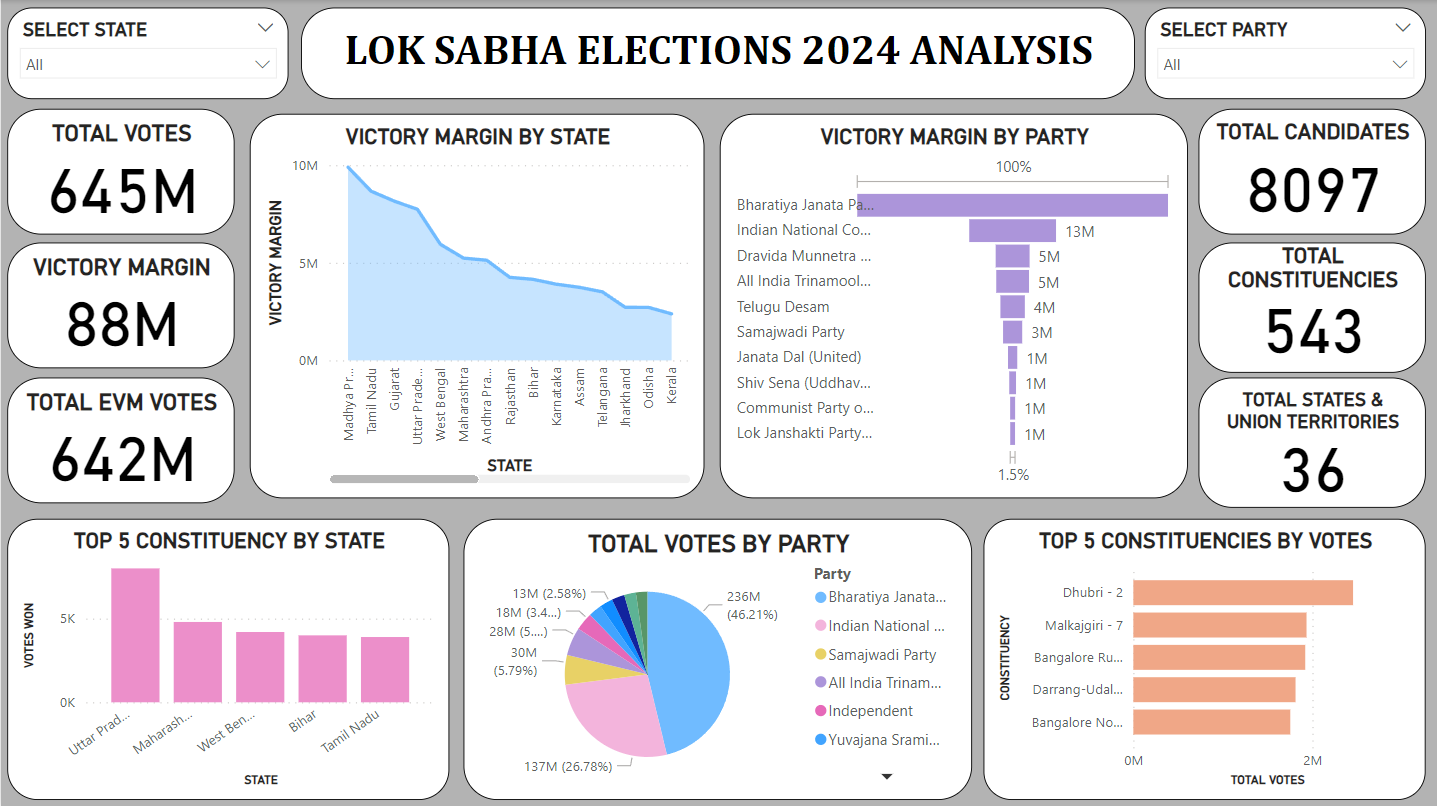

The dashboard page shown, as its layout file describes it:
{"tool":"powerbi","page":{"name":"Page 1","canvas":[1280,720],"ordinal":0},"visuals":[{"type":"card","title":"TOTAL VOTES","fields":{"Values":["Sum(Final Result.Total Votes)"]},"box":[6,96.4,202.4,112],"z":0},{"type":"card","title":"TOTAL STATES & UNION TERRITORIES","fields":{"Values":["Count(Final Result.State)"]},"box":[1066.3,336.1,202.4,115.7],"z":1000},{"type":"card","title":"TOTAL CANDIDATES","fields":{"Values":["Count(Final Result.Candidate)"]},"box":[1066.3,96.4,202.4,112],"z":2000},{"type":"slicer","fields":{"Values":["Final Result.State"]},"box":[6,7.2,250.6,81.9],"z":3000},{"type":"slicer","fields":{"Values":["Final Result.Party"]},"box":[1018.1,7.2,250.6,81.9],"z":4000},{"type":"card","title":"TOTAL CONSTITUENCIES","fields":{"Values":["Count(Final Result.Constituency)"]},"box":[1066.3,215.7,202.4,115.7],"z":5000},{"type":"pieChart","title":"TOTAL VOTES BY PARTY","fields":{"Y":["Sum(Final Result.Total Votes)"],"Category":["Final Result.Party"]},"box":[412,461.4,453,250.6],"z":6000},{"type":"clusteredBarChart","title":"TOP 5 CONSTITUENCIES BY VOTES","fields":{"Category":["Final Result.Constituency"],"Y":["Sum(Final Result.Total Votes)"]},"box":[874.7,461.4,394,250.6],"z":8000},{"type":"columnChart","title":"TOP 5 CONSTITUENCY BY STATE","fields":{"Category":["Final Result.State"],"Y":["Sum(Final Result.% of Votes)"]},"box":[6,461.4,394,250.6],"z":8001},{"type":"textbox","box":[267.5,7.2,742.2,81.9],"z":8002},{"type":"card","title":"VICTORY MARGIN","fields":{"Values":["Sum(Final Result.Victory Margin)"]},"box":[6,215.7,202.4,112],"z":8003},{"type":"card","title":"TOTAL EVM VOTES","fields":{"Values":["Sum(Final Result.EVM Votes)"]},"box":[6,336.1,202.4,112],"z":8004},{"type":"areaChart","title":"VICTORY MARGIN BY STATE","fields":{"Y":["Sum(Final Result.Victory Margin)"],"Category":["Final Result.State"]},"box":[221.7,101.2,404.8,342.2],"z":8005},{"type":"funnel","title":"VICTORY MARGIN BY PARTY","fields":{"Category":["Final Result.Party"],"Y":["Sum(Final Result.Victory Margin)"]},"box":[639.8,101.2,416.9,342.2],"z":8006}]}

Visuals, with their boxes in screenshot pixels (x1, y1, x2, y2), scaled from the page's 1280x720 canvas onto the 1437x806 screenshot:
"TOTAL VOTES" card: [7, 108, 234, 233]
"TOTAL STATES & UNION TERRITORIES" card: [1197, 376, 1424, 506]
"TOTAL CANDIDATES" card: [1197, 108, 1424, 233]
slicer - Final Result.State: [7, 8, 288, 100]
slicer - Final Result.Party: [1143, 8, 1424, 100]
"TOTAL CONSTITUENCIES" card: [1197, 241, 1424, 371]
"TOTAL VOTES BY PARTY" pieChart: [463, 517, 971, 797]
"TOP 5 CONSTITUENCIES BY VOTES" clusteredBarChart: [982, 517, 1424, 797]
"TOP 5 CONSTITUENCY BY STATE" columnChart: [7, 517, 449, 797]
textbox: [300, 8, 1134, 100]
"VICTORY MARGIN" card: [7, 241, 234, 367]
"TOTAL EVM VOTES" card: [7, 376, 234, 502]
"VICTORY MARGIN BY STATE" areaChart: [249, 113, 703, 496]
"VICTORY MARGIN BY PARTY" funnel: [718, 113, 1186, 496]
